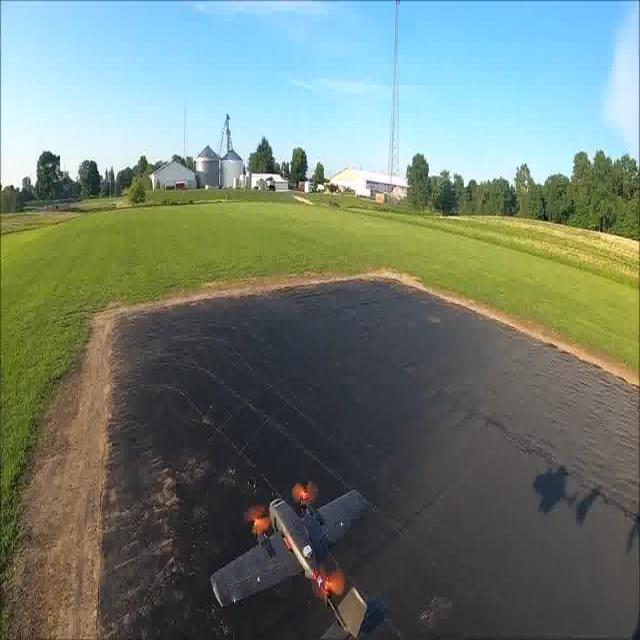iha: (210, 462, 374, 633)
